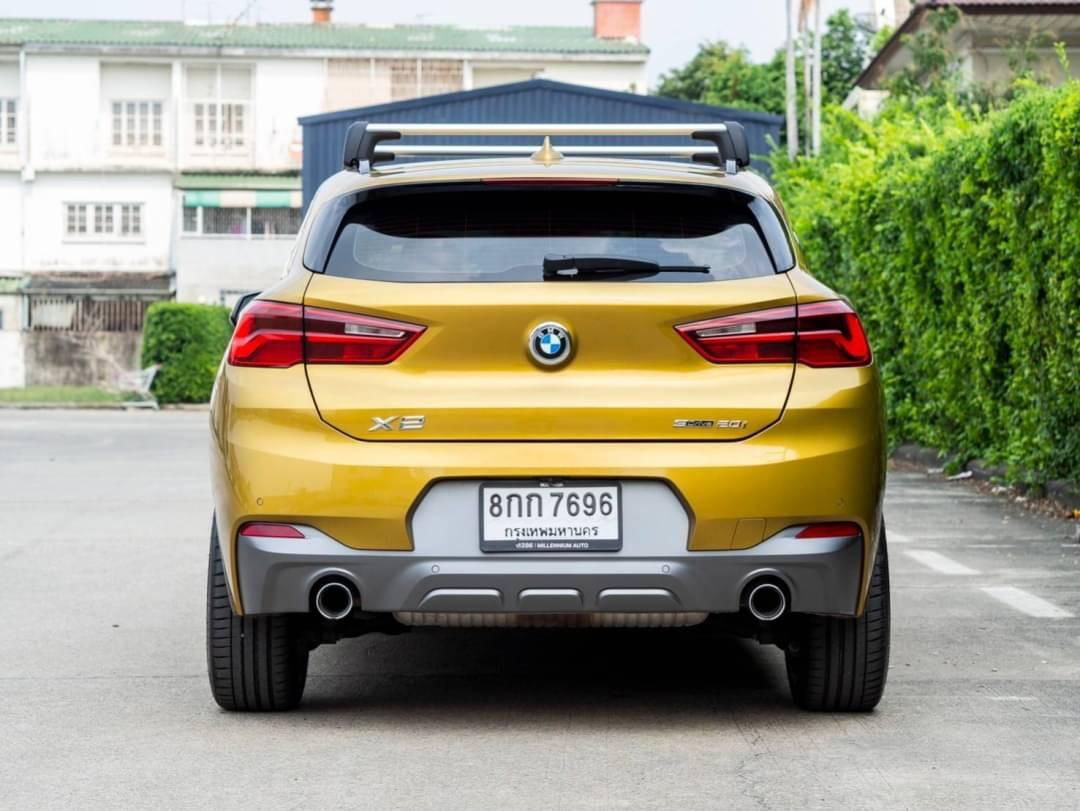license-plate: (477, 474, 634, 560)
